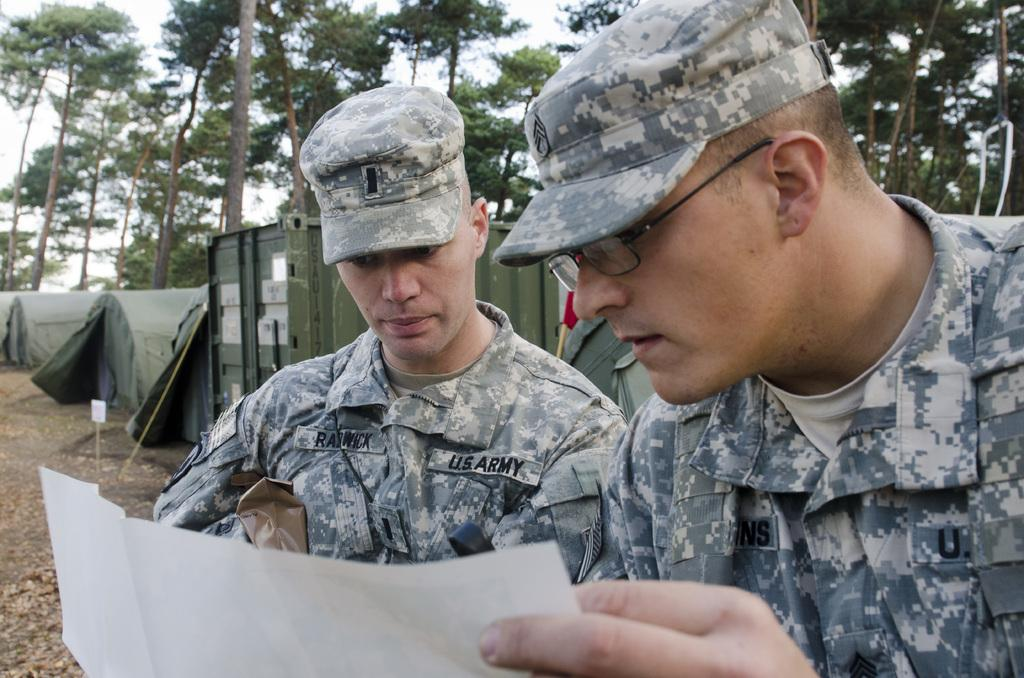Hat: (491, 0, 835, 269), (296, 84, 470, 269)
